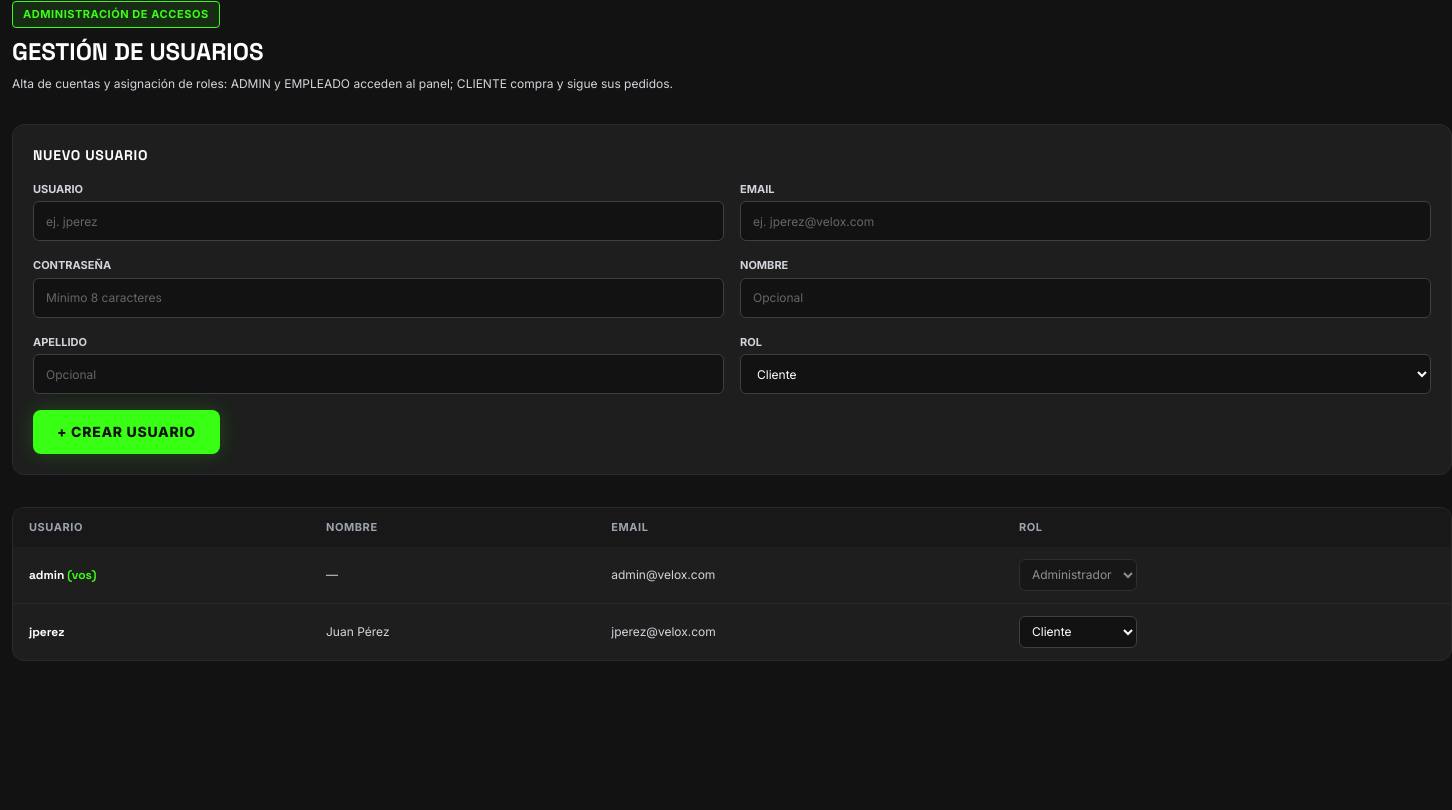
Test: Gestión de usuarios (/dashboard/usuarios) › crea un usuario enviando el rol elegido
This screenshot has width=1452, height=810.
expect the text "jperez" is shown: met, box [13,603,310,660]
Type "mgomez" into the field labelled "Usuario".
click(378, 221); type("mgomez")  # box [33,201,724,241]
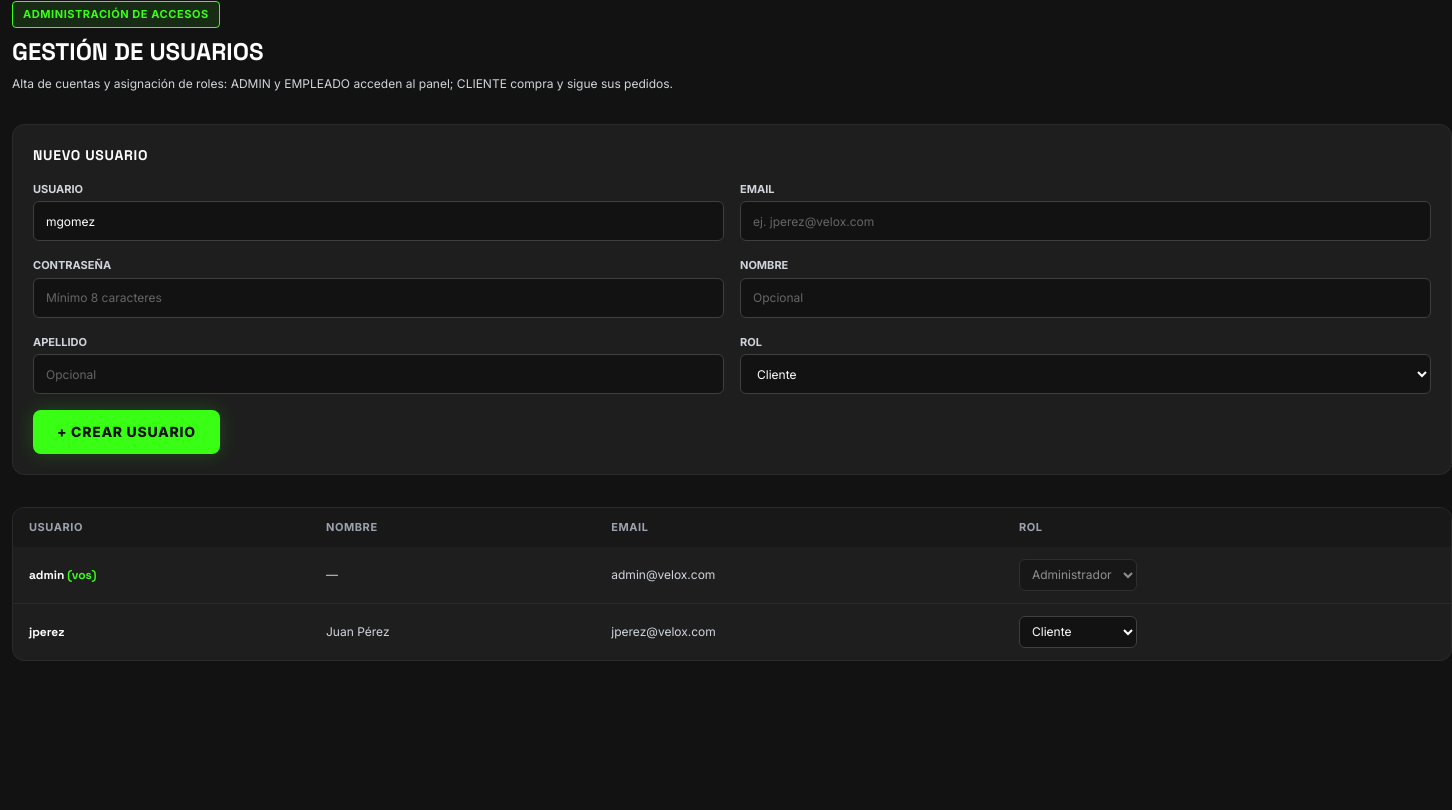
Type "mgomez@velox.com" into the field labelled "Email".
click(1086, 221); type("mgomez@velox.com")  # box [740,201,1431,241]
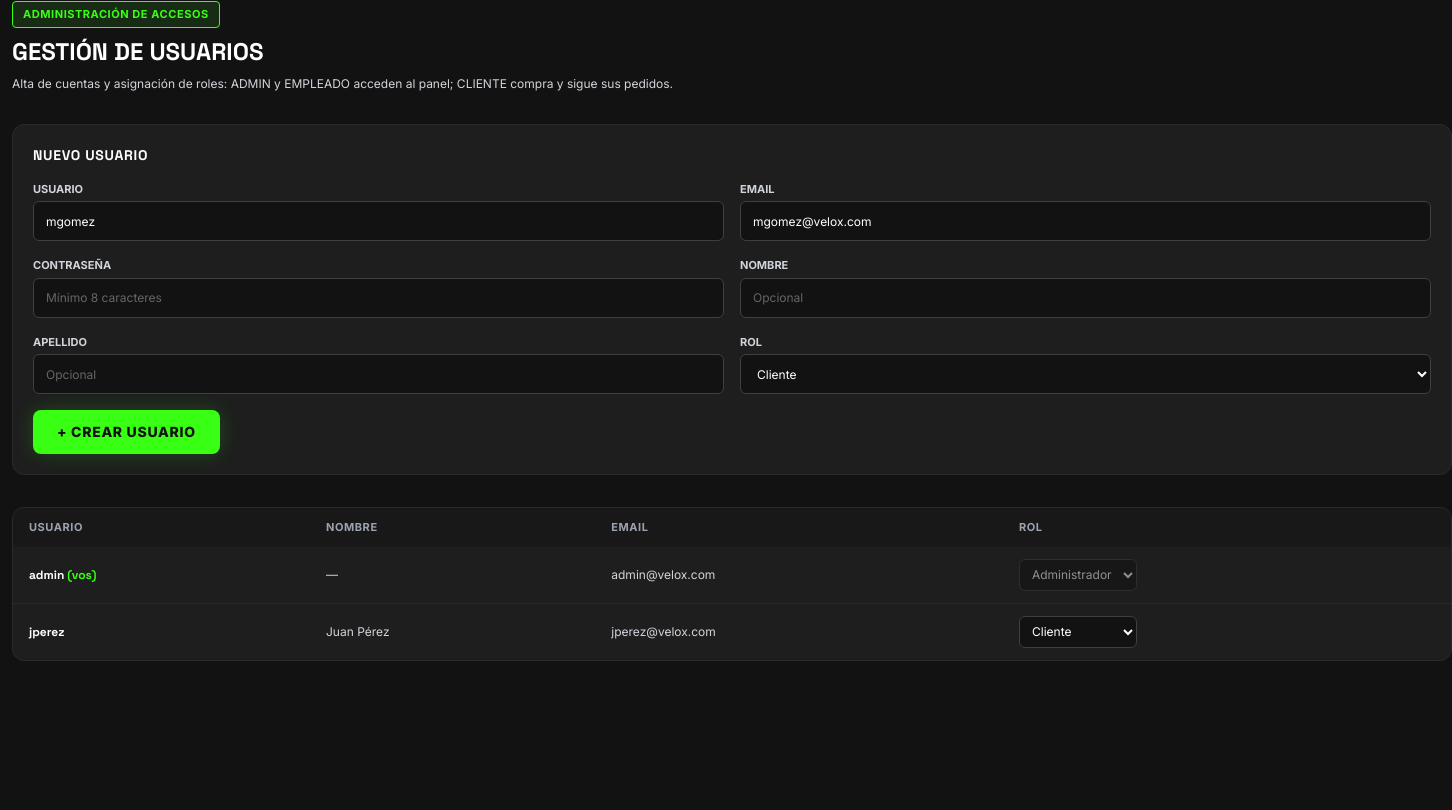
Type "Clave-Segura-1" into the password field labelled "Contraseña".
click(378, 298); type("Clave-Segura-1")  # box [33,278,724,318]
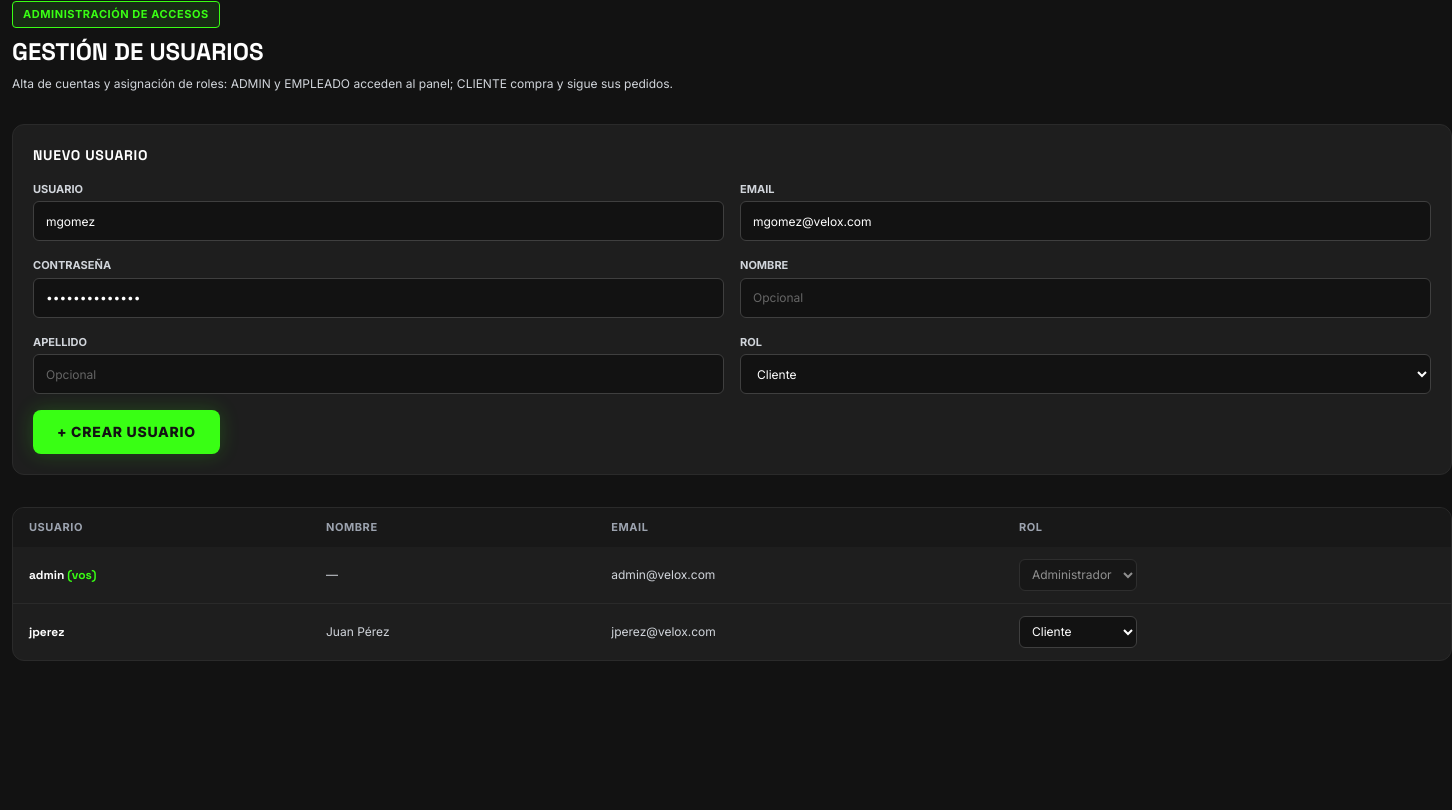
Select "Empleado" in the dropdown labelled "Rol" at [1086, 374], box [740,354,1431,394]
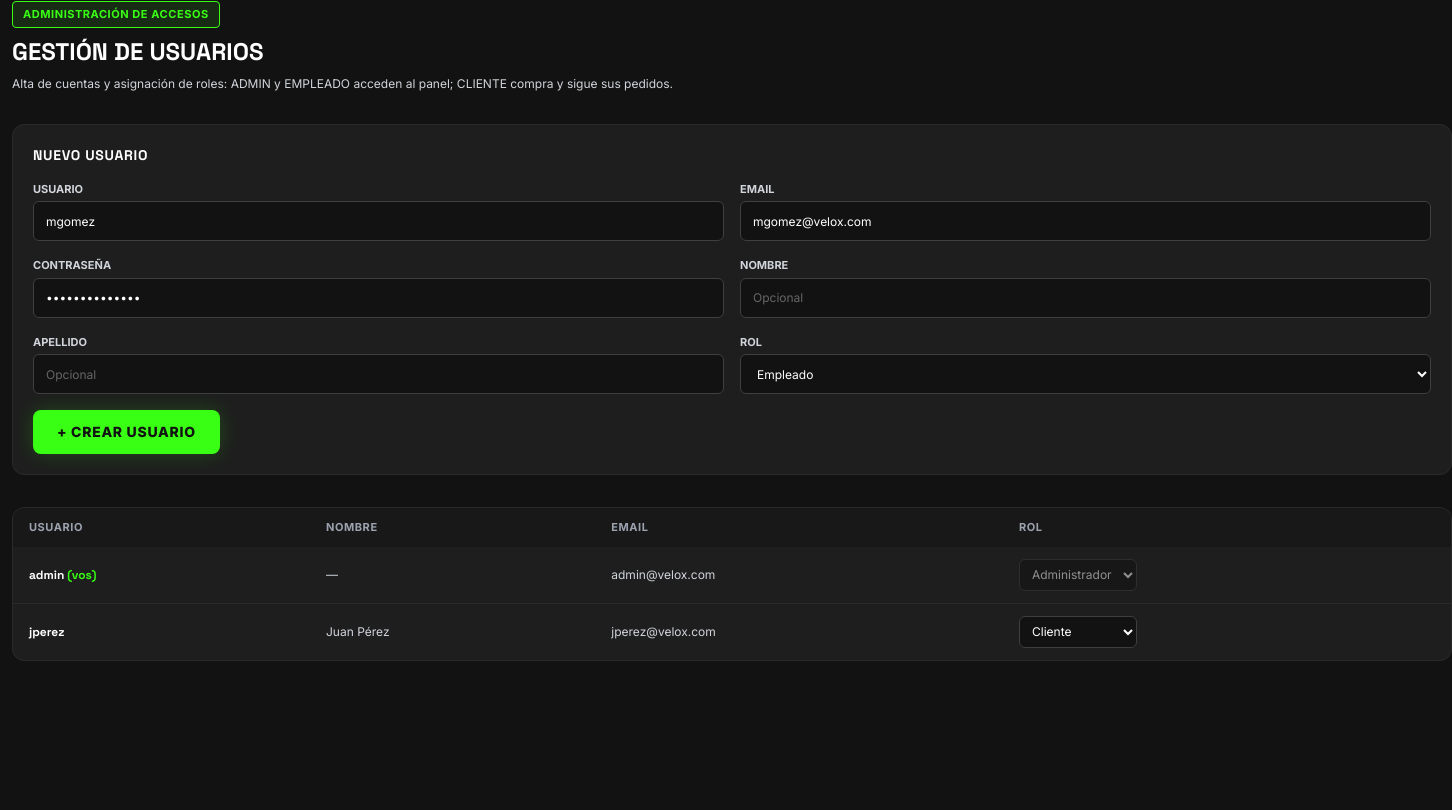
Click the button "+ CREAR USUARIO".
click(126, 432)  # box [33,410,220,454]
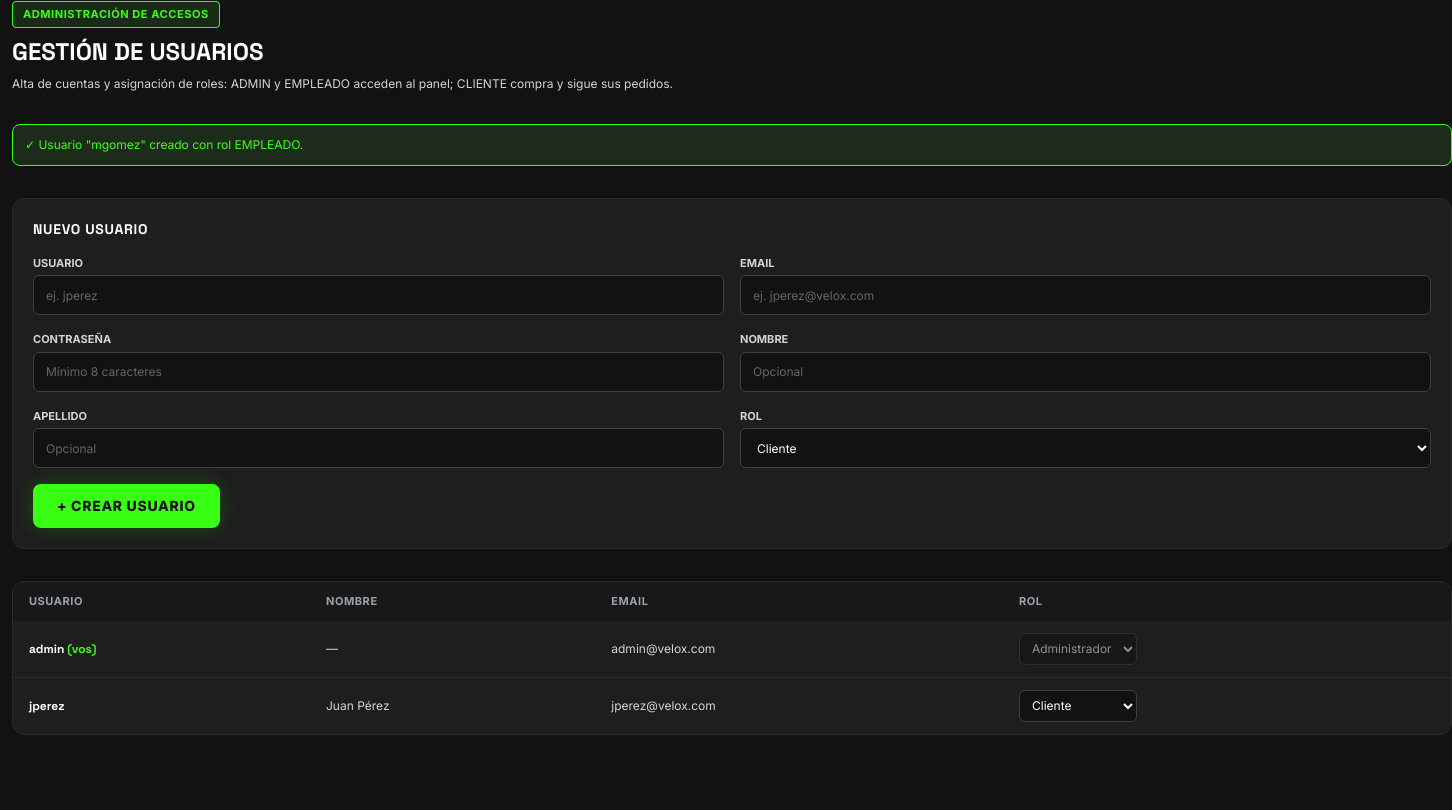
expect the text "✓ Usuario \"mgomez\" creado con rol EMPLEADO." is shown: met, box [12,124,1451,166]
